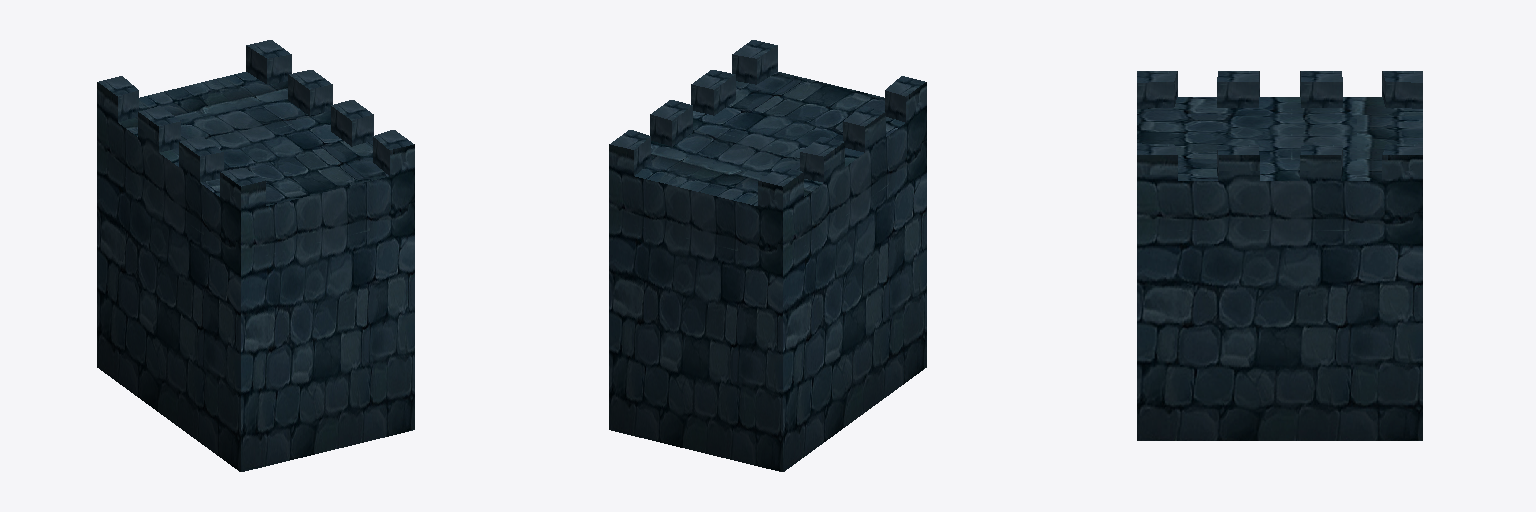
The picture shows the model from 3 angles: view 1: azimuth 30°, elevation 25°; view 2: azimuth 150°, elevation 25°; view 3: azimuth 270°, elevation 25°; orthographic projection.
Visible parts, largest first — view 1: cube1; view 2: cube1; view 3: cube1.
Boxes of the visible parts, <box> form: cube1: <box>97,40,414,471</box>; cube1: <box>609,40,926,471</box>; cube1: <box>1137,71,1422,440</box>.
Size of the model in its own units: 0.1134 by 0.1783 by 0.162.
1 materials, 1 textured.